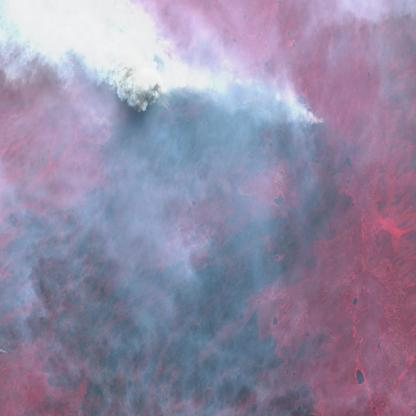fire: (291, 105, 328, 127)
